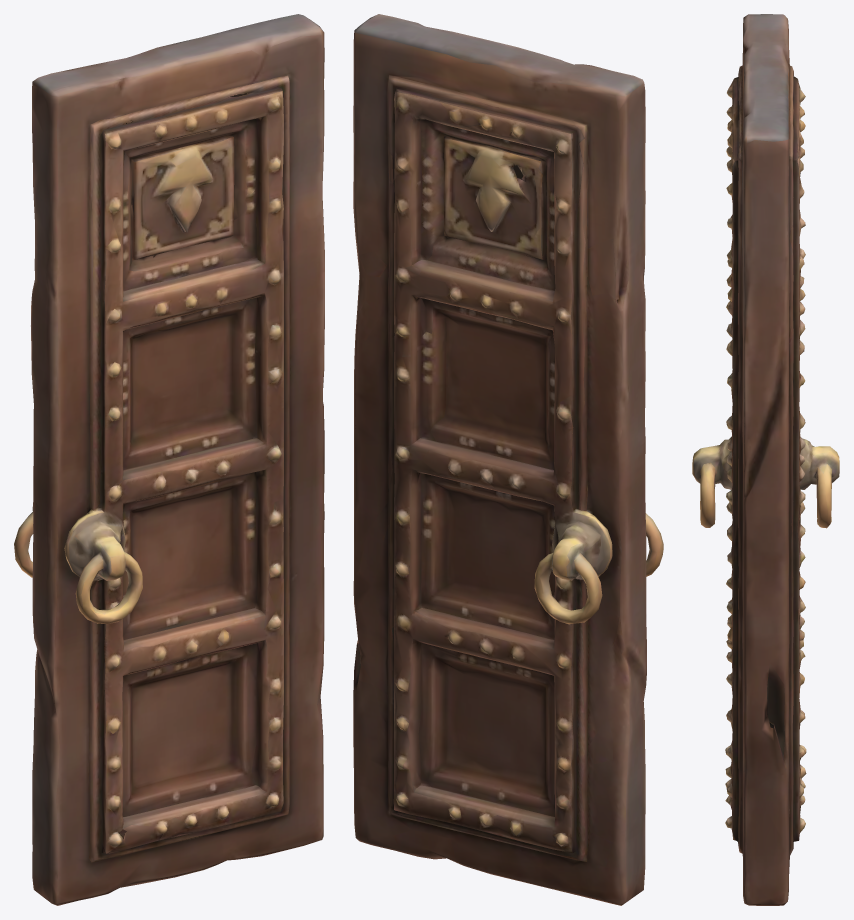
Rendered from door.glb.
3 views of the same model, side by side, from view 1: azimuth 30°, elevation 25°; view 2: azimuth 150°, elevation 25°; view 3: azimuth 270°, elevation 25° (orthographic). The views are drawn at different scales.
Visible parts, largest first — view 1: geometry_0; view 2: geometry_0; view 3: geometry_0.
Part boxes in pixels (x1,y1,x2,y2): geometry_0: (14, 14, 324, 905); geometry_0: (353, 14, 663, 905); geometry_0: (692, 14, 839, 905).
Bounding box in the file's own units: 0.3575 × 1 × 0.1734.
1 material, 1 textured.
